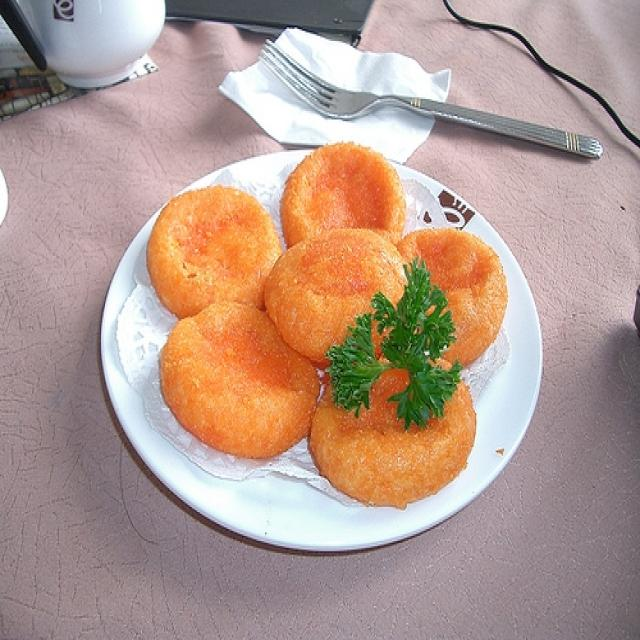炸货点心: (83, 140, 557, 548)
蛋糕甜品: (83, 140, 557, 548)
